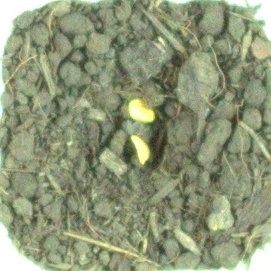chilli seed: (126, 96, 159, 123), (128, 133, 153, 165)
